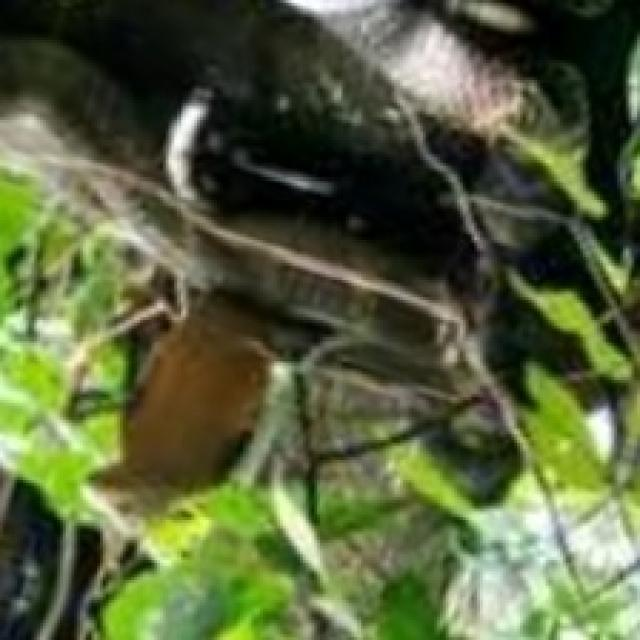king cobra: (0, 36, 465, 508)
